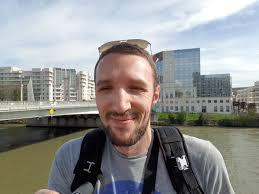face: (95, 54, 152, 145)
